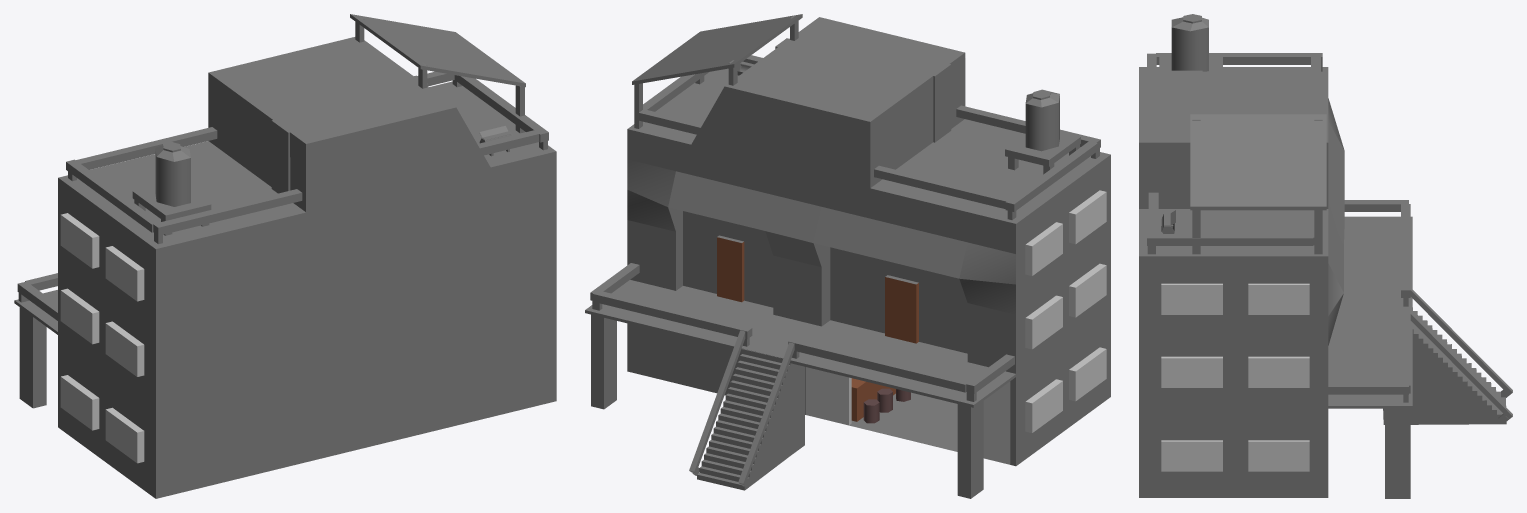
File: Departamento Natalia.obj
3 views of the same model, side by side, from view 1: azimuth 30°, elevation 25°; view 2: azimuth 150°, elevation 25°; view 3: azimuth 270°, elevation 25° (orthographic). The views are drawn at different scales.
Visible parts, largest first — view 1: Edificio, Cube (16), Cube (4), Cube (1), Cylinder, Cube (6), Cube (5), Cube (29), Cube (26), Cube (28), Cube (27), Cube (23) (+4 smaller); view 2: Edificio, Stairs (5), Cube (16), Puertas, Cube (46), Cube (4), Cube (1), Cube (39), Cube (2), Cube (48), Cylinder, Cube (41) (+14 smaller); view 3: Edificio, Cube (16), Stairs (5), Cube (2), Cylinder, Cube (35), Cube (30), Cube (34), Cube (33), Cube (32), Cube (31), Cube (8) (+9 smaller).
Part boxes in pixels (<box>): Edificio: <box>14,37,556,498</box>; Cube (16): <box>350,14,525,87</box>; Cube (4): <box>69,127,217,221</box>; Cube (1): <box>19,307,46,408</box>; Cylinder: <box>155,131,512,206</box>; Cube (6): <box>153,189,302,235</box>; Cube (5): <box>66,159,160,232</box>; Cube (29): <box>105,407,144,463</box>; Cube (26): <box>60,213,99,268</box>; Cube (28): <box>60,375,99,430</box>; Cube (27): <box>105,246,144,301</box>; Cube (23): <box>60,288,99,344</box>; Edificio: <box>585,17,1110,466</box>; Stairs (5): <box>697,349,804,490</box>; Cube (16): <box>632,14,802,84</box>; Puertas: <box>717,237,918,343</box>; Cube (46): <box>738,342,1010,485</box>; Cube (4): <box>874,131,1080,208</box>; Cube (1): <box>957,401,983,498</box>; Cube (39): <box>788,338,969,392</box>; Cube (2): <box>591,314,616,409</box>; Cube (48): <box>805,367,851,425</box>; Cylinder: <box>737,61,1059,151</box>; Cube (41): <box>592,290,752,339</box>; Edificio: <box>1139,67,1412,497</box>; Cube (16): <box>1190,114,1326,210</box>; Stairs (5): <box>1383,307,1506,424</box>; Cube (2): <box>1385,408,1410,498</box>; Cylinder: <box>1161,14,1208,233</box>; Cube (35): <box>1161,440,1222,471</box>; Cube (30): <box>1248,356,1309,387</box>; Cube (34): <box>1248,440,1309,471</box>; Cube (33): <box>1161,283,1222,314</box>; Cube (32): <box>1248,283,1309,314</box>; Cube (31): <box>1161,356,1222,387</box>; Cube (8): <box>1147,234,1313,245</box>.
Size of the model in its own units: 56.52 by 47.17 by 46.01.
